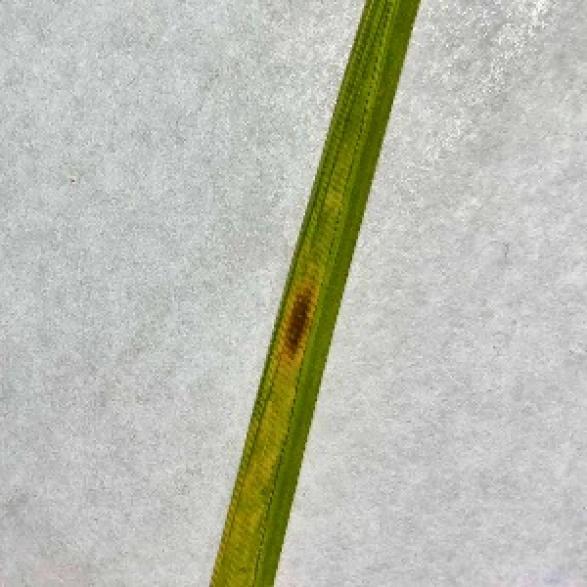Leaf_smut: (250, 246, 348, 424)
